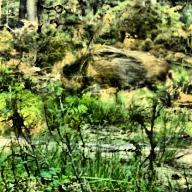boar: (58, 42, 184, 107)
